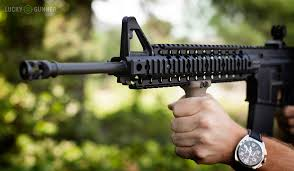Gun: (122, 34, 284, 119)
